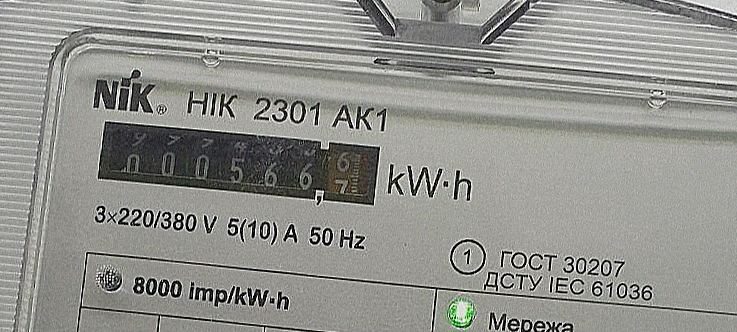0: (158, 147, 178, 178), (192, 151, 212, 182), (122, 149, 143, 173)
5: (227, 154, 247, 185)
6: (295, 159, 317, 191), (260, 158, 281, 188), (335, 149, 353, 175)
7: (332, 177, 350, 196)
9: (129, 127, 148, 149)
screen: (88, 112, 386, 214)
